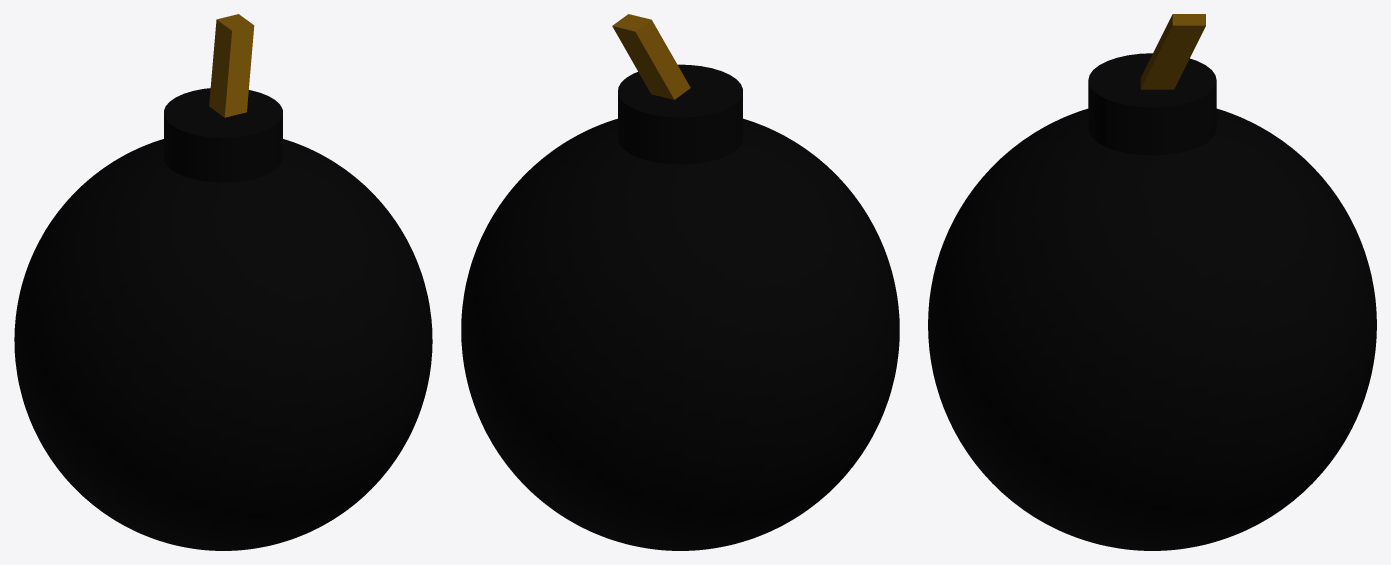
The model's file is Bomb.fbx.
The picture shows the model from 3 angles, left to right: view 1: azimuth 30°, elevation 25°; view 2: azimuth 150°, elevation 25°; view 3: azimuth 270°, elevation 25°; orthographic projection. The views are drawn at different scales.
Visible parts, largest first — view 1: Sphere, Cylinder, Cube; view 2: Sphere, Cylinder, Cube; view 3: Sphere, Cylinder, Cube.
Boxes of the visible parts, bbox=[...] form: Sphere: bbox=[14, 139, 432, 550]; Cylinder: bbox=[164, 88, 282, 182]; Cube: bbox=[209, 14, 254, 117]; Sphere: bbox=[461, 118, 899, 550]; Cylinder: bbox=[618, 64, 742, 164]; Cube: bbox=[612, 14, 690, 99]; Sphere: bbox=[928, 108, 1376, 550]; Cylinder: bbox=[1088, 53, 1216, 155]; Cube: bbox=[1140, 14, 1205, 89].
Size of the model in its own units: 699 by 905 by 699.
